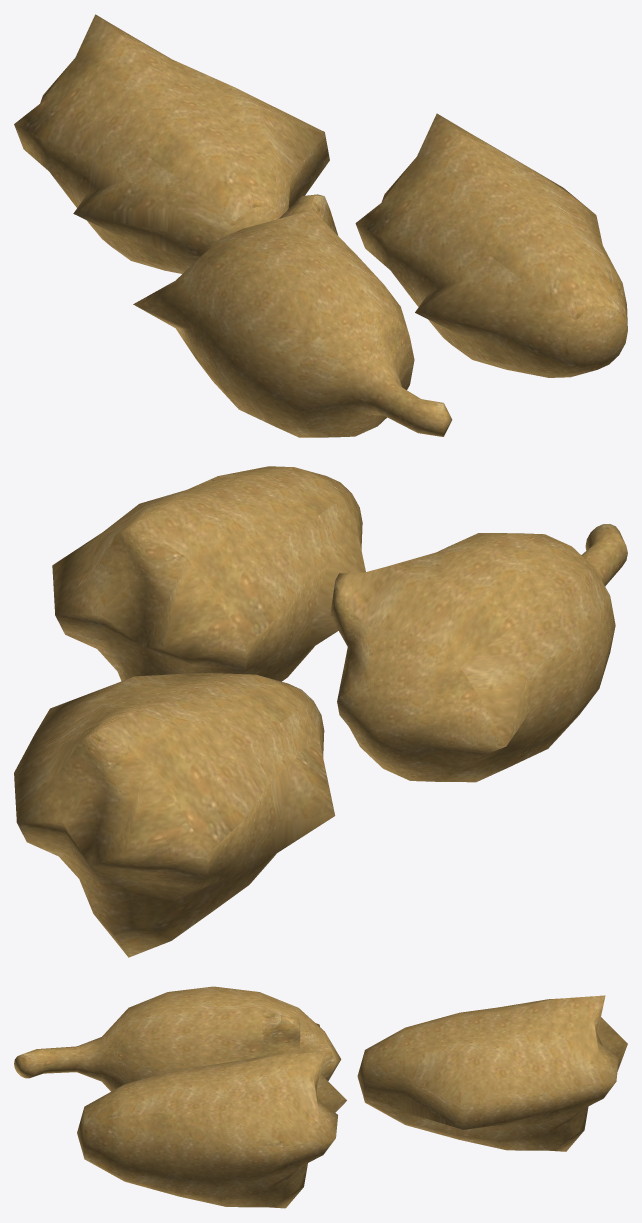
The model's file is wubeizi.FBX.
The picture shows the model from 3 angles, top to bottom: view 1: azimuth 30°, elevation 25°; view 2: azimuth 150°, elevation 25°; view 3: azimuth 270°, elevation 25°; orthographic projection. The views are drawn at different scales.
Parts seen in each view (by area): view 1: Sphere003, Sphere002, Sphere001; view 2: Sphere003, Sphere001, Sphere002; view 3: Sphere003, Sphere002, Sphere001.
Boxes of the visible parts, bbox=[...] form: Sphere003: bbox=[14, 14, 329, 273]; Sphere002: bbox=[355, 113, 627, 377]; Sphere001: bbox=[133, 194, 452, 437]; Sphere003: bbox=[14, 672, 335, 957]; Sphere001: bbox=[330, 524, 627, 782]; Sphere002: bbox=[52, 466, 365, 681]; Sphere003: bbox=[357, 995, 627, 1151]; Sphere002: bbox=[77, 1052, 346, 1208]; Sphere001: bbox=[14, 986, 341, 1091].
Bounding box in the file's own units: 396 × 194 × 690.
